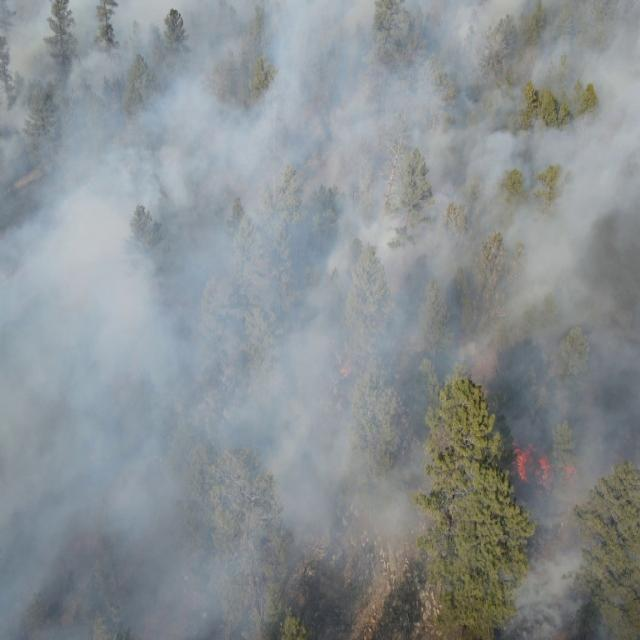fire: (511, 440, 557, 488), (337, 360, 352, 378), (564, 461, 576, 482)
smoke: (273, 0, 640, 556), (0, 0, 274, 640), (506, 555, 637, 640)
